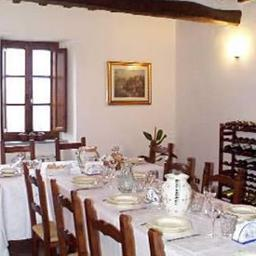Ventana: (3, 43, 65, 137)
